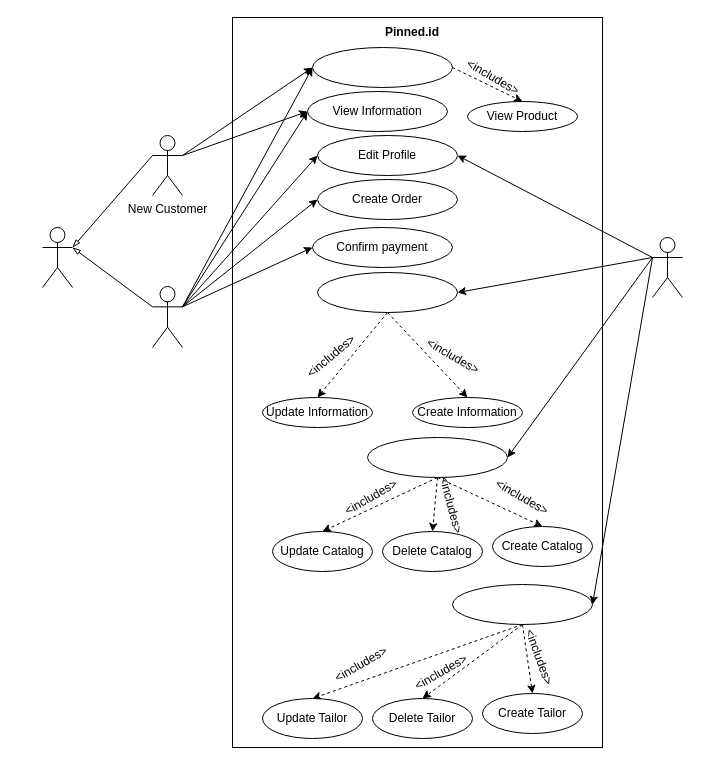
The diagram is 701 pixels wide and 765 high, and some of its shapes have lost their labels. Here are the shapes that lost their labels. From the top down, the box of each, then its label:
(312, 46, 452, 88): View Catalog
(42, 226, 72, 288): Web Customer
(652, 236, 682, 298): Admin
(316, 272, 458, 312): Manage Information
(152, 286, 182, 348): Registered Customer
(366, 436, 508, 478): Manage Catalog
(452, 584, 592, 624): Manage Tailor
